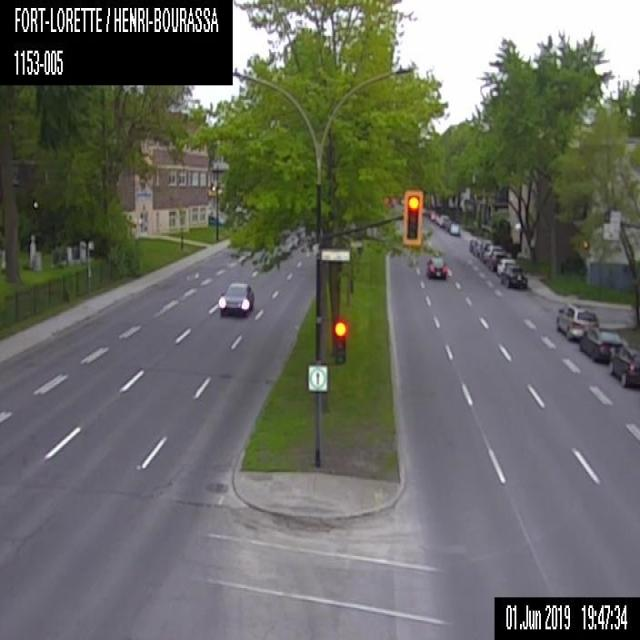vehicle: (580, 325, 625, 364), (556, 301, 599, 340), (217, 278, 254, 318), (609, 344, 639, 391), (500, 264, 527, 289), (425, 253, 448, 280), (488, 250, 508, 269), (483, 243, 502, 262), (496, 256, 515, 274), (446, 220, 460, 236)
